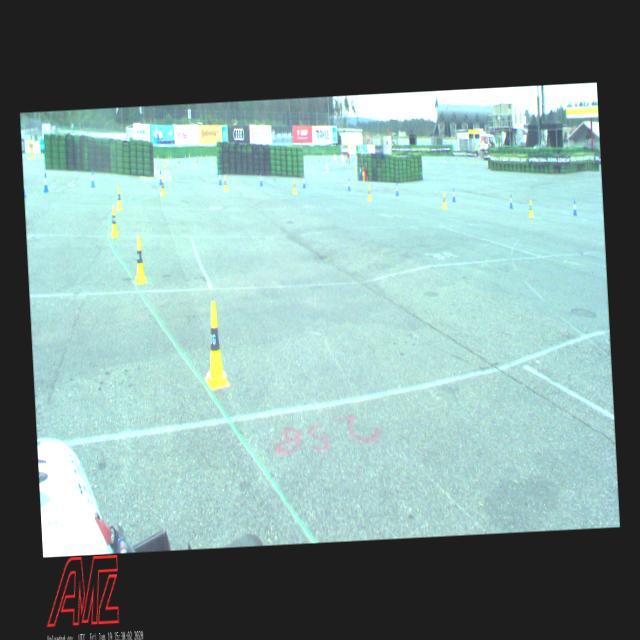blue_cone: (90, 170, 96, 187), (43, 174, 48, 192), (572, 200, 577, 216), (509, 194, 513, 208), (302, 175, 306, 188), (218, 172, 222, 184), (159, 170, 162, 184), (452, 188, 455, 202), (396, 183, 399, 196), (24, 179, 26, 197), (260, 173, 262, 186), (348, 180, 350, 192), (196, 156, 198, 164)
yellow_cone: (202, 302, 227, 384), (132, 236, 146, 284), (108, 205, 120, 236), (115, 187, 122, 210), (528, 200, 534, 218), (160, 179, 166, 195), (442, 192, 447, 210), (224, 176, 228, 192), (368, 184, 372, 200), (292, 179, 296, 193), (213, 158, 216, 164), (354, 162, 356, 170), (164, 161, 166, 167), (194, 158, 196, 164), (178, 158, 178, 164)
